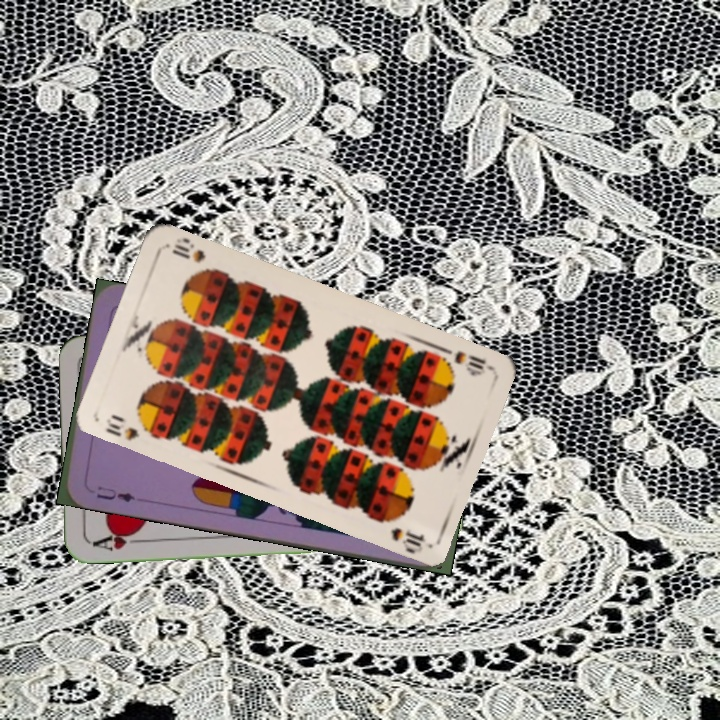EU: (92, 482, 138, 505)
HA: (88, 527, 146, 554)
S10: (102, 410, 156, 443), (450, 346, 493, 378)
